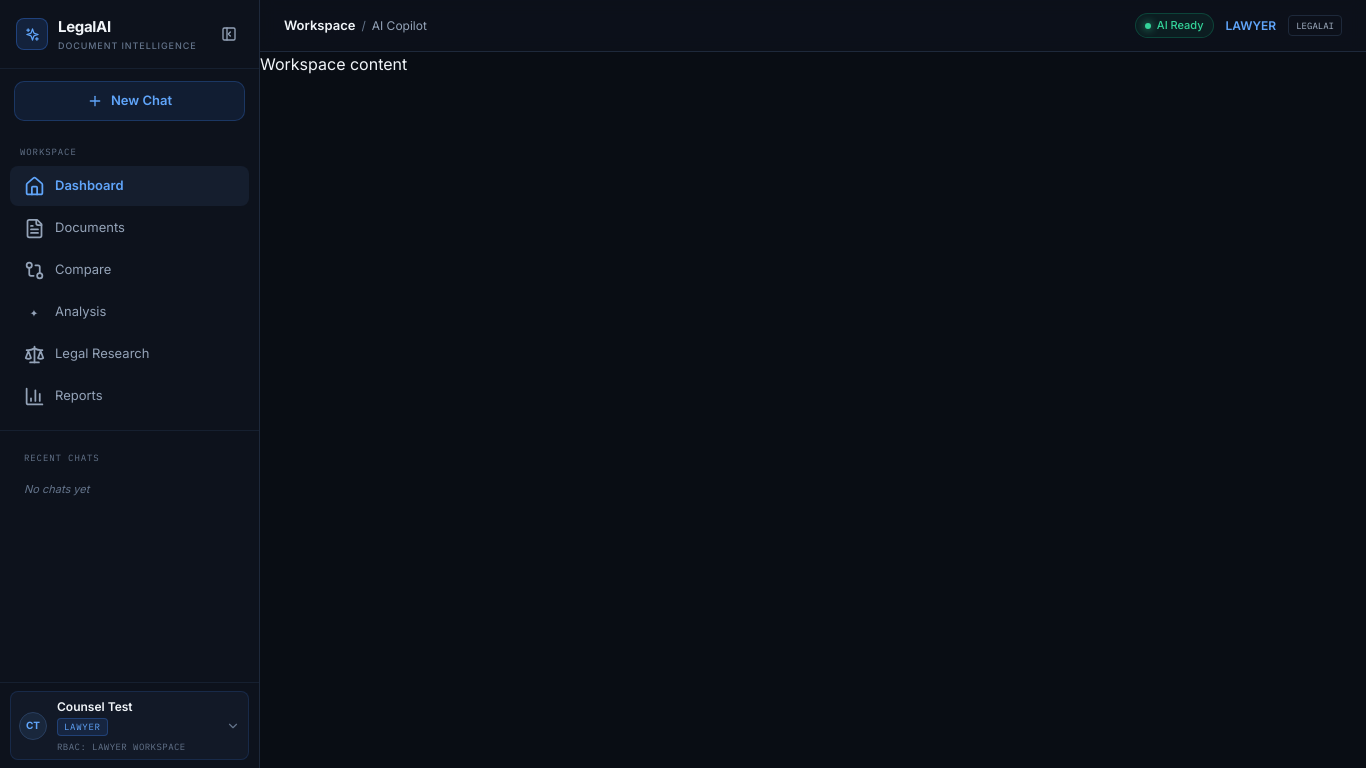
Scenario: AppShell Sidebar Navigation & Layout › collapsing sidebar hides text labels but preserves all navigation items as icon-only buttons with tooltips
Expected: the text "LegalAI" is shown, [58,17,111,36]
Expected: the text "Document Intelligence" is shown, [58,38,196,52]
# Click collapse button
Click the button named "collapse sidebar": (229, 34) [215,20,243,48]
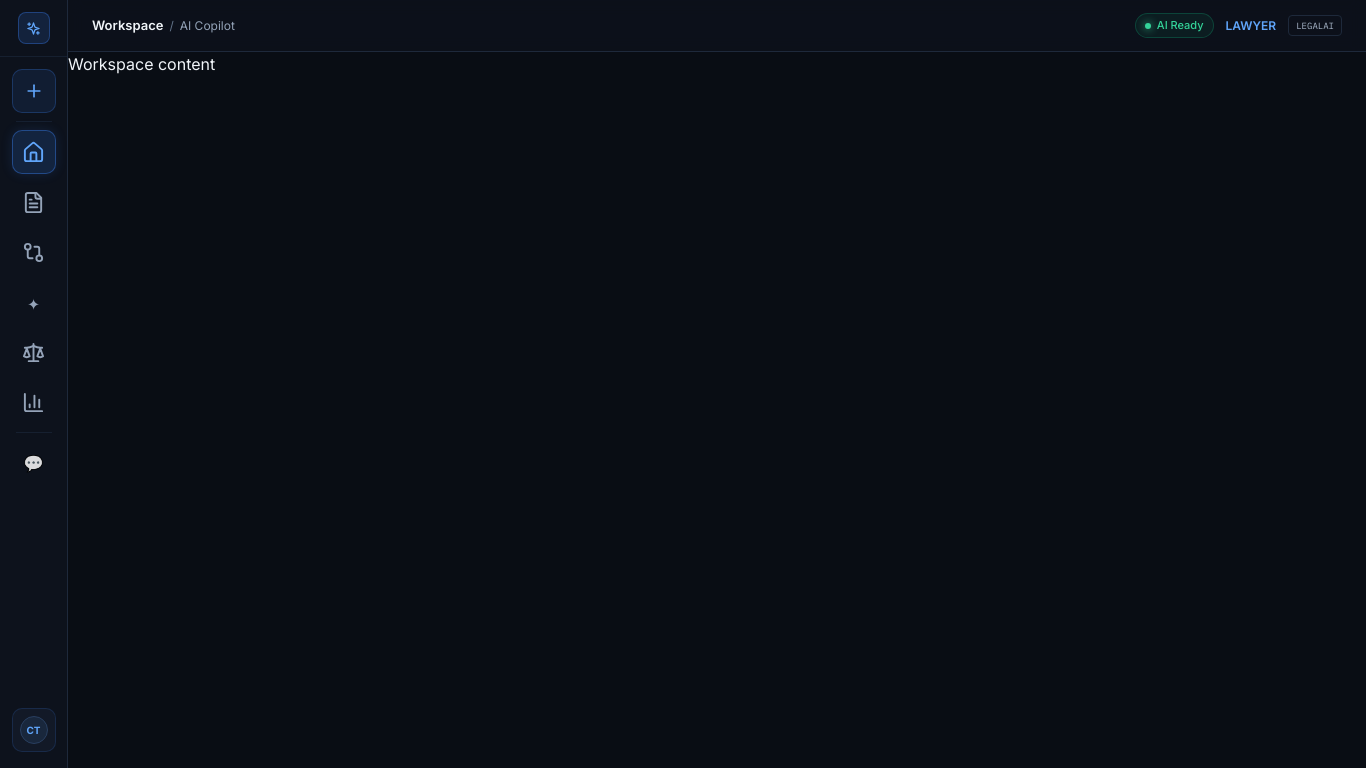
Expected: the button named "open sidebar" is shown, [18,12,50,44]
Expected: the link "Document Intelligence" is gone
Expected: the text "Recent Chats" is gone
